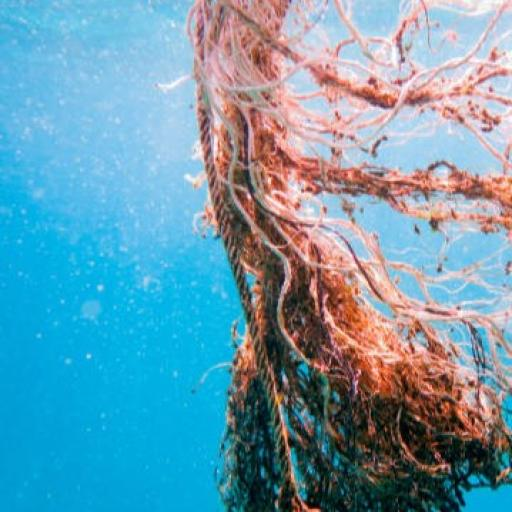net: (183, 0, 512, 512)
